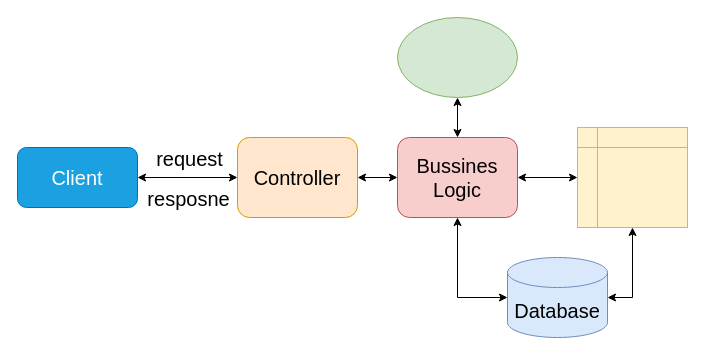
The diagram is 705 pixels wide and 355 high, and some of its shapes have lost their labels. The centre of each missing label's shape, as x and y in pixels:
"Model" belongs at pixel 632 177.
"Repository Class" belongs at pixel 457 57.
